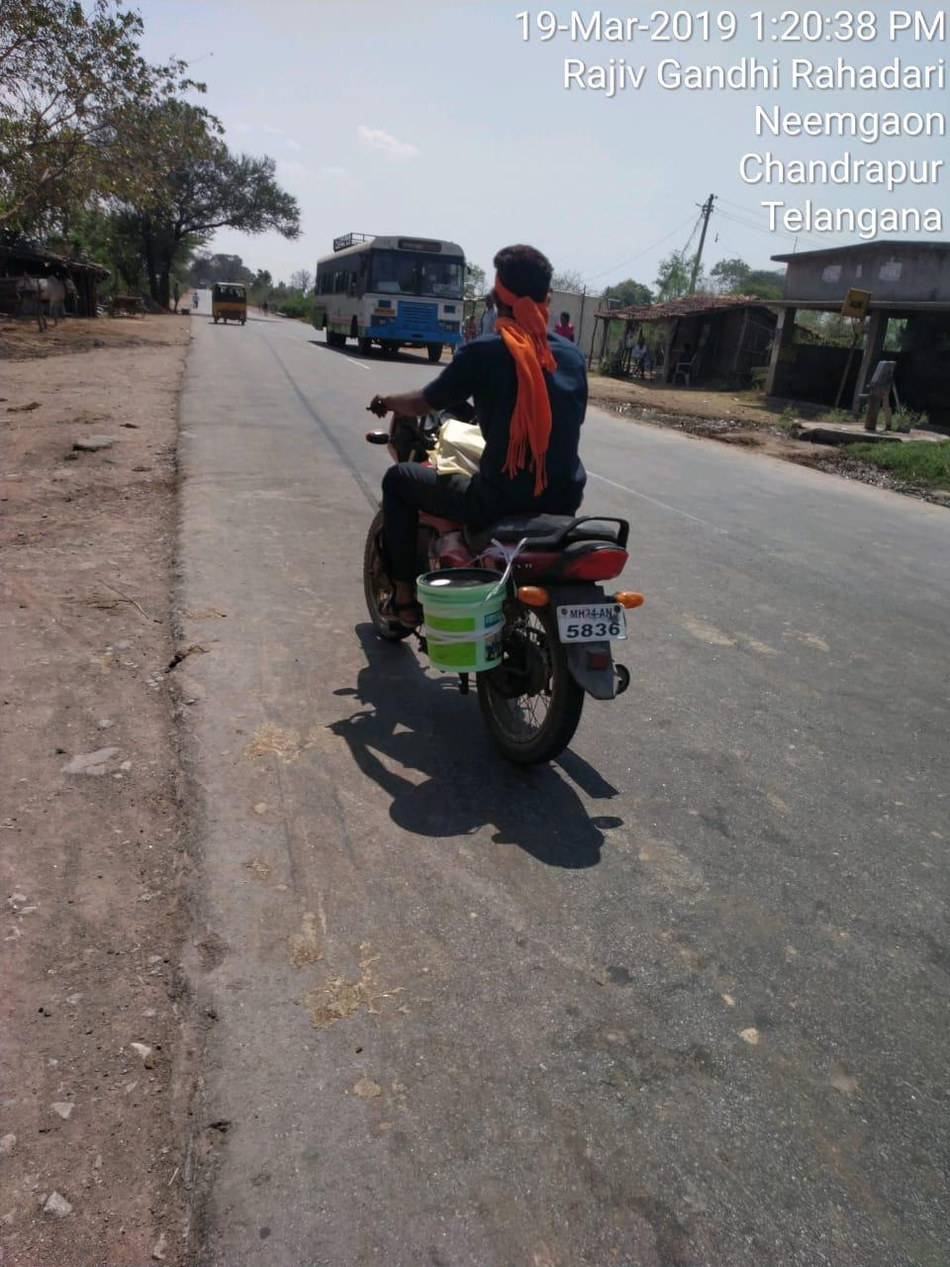plate: (544, 596, 648, 652)
